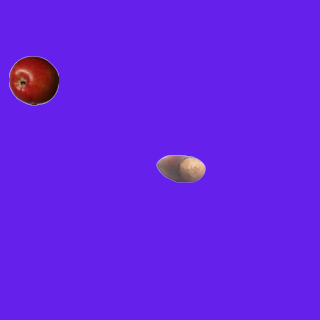Apple Braeburn: (8, 55, 58, 105)
Hazelnut: (155, 143, 205, 193)
